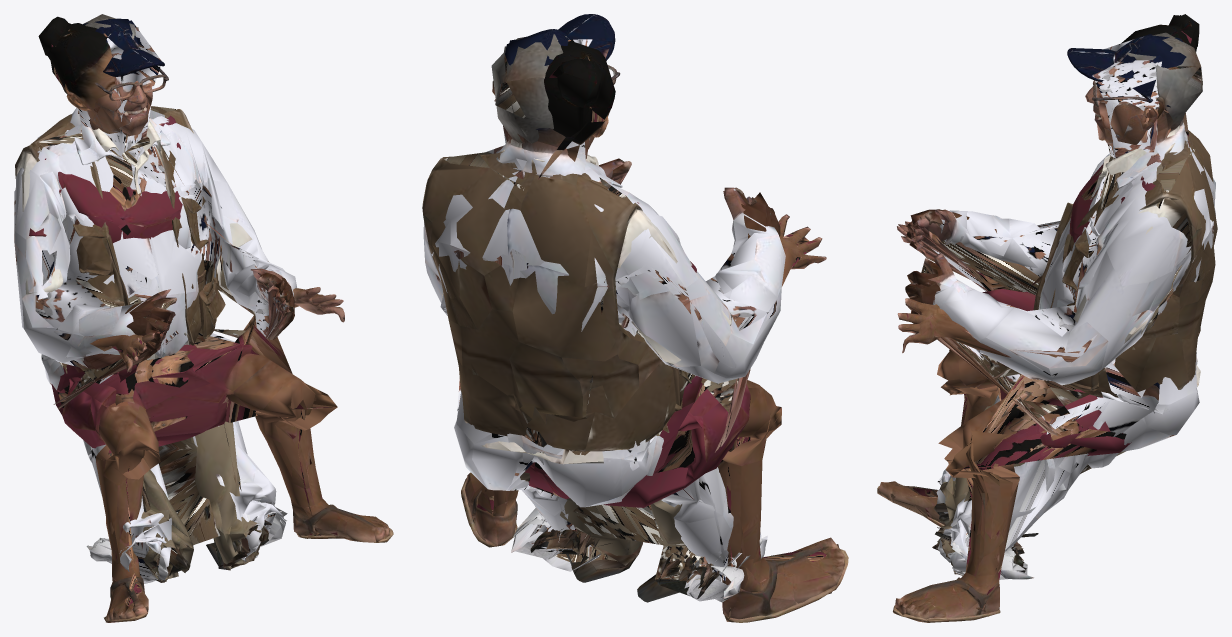
File: condutores.glb
3 renders of one model, left to right at view 1: azimuth 30°, elevation 25°; view 2: azimuth 150°, elevation 25°; view 3: azimuth 270°, elevation 25°, orthographic. The views are drawn at different scales.
Visible parts, largest first — view 1: vizinha, edvaldo, carlos, edvaldoLonge, carlosLonge, vizinhaLonge; view 2: carlos, edvaldo, vizinha, edvaldoLonge, carlosLonge, vizinhaLonge; view 3: edvaldo, vizinha, carlos, edvaldoLonge, vizinhaLonge, carlosLonge.
Boxes of the visible parts, x1,y1,x2,y2 form: vizinha: [29, 16, 393, 622]; edvaldo: [14, 18, 296, 583]; carlos: [15, 14, 294, 582]; edvaldoLonge: [14, 20, 287, 577]; carlosLonge: [35, 27, 294, 577]; vizinhaLonge: [45, 23, 332, 619]; carlos: [422, 34, 780, 602]; edvaldo: [423, 14, 785, 602]; vizinha: [461, 41, 848, 622]; edvaldoLonge: [454, 39, 781, 580]; carlosLonge: [443, 36, 738, 579]; vizinhaLonge: [472, 39, 844, 618]; edvaldo: [911, 35, 1215, 579]; vizinha: [877, 14, 1199, 622]; carlos: [905, 32, 1217, 575]; edvaldoLonge: [921, 34, 1215, 575]; vizinhaLonge: [890, 15, 1194, 616]; carlosLonge: [921, 65, 1202, 570].
Bounding box in the file's own units: 0.6383 × 1.07 × 0.6115.
Materials: 3 (3 with a texture image).
